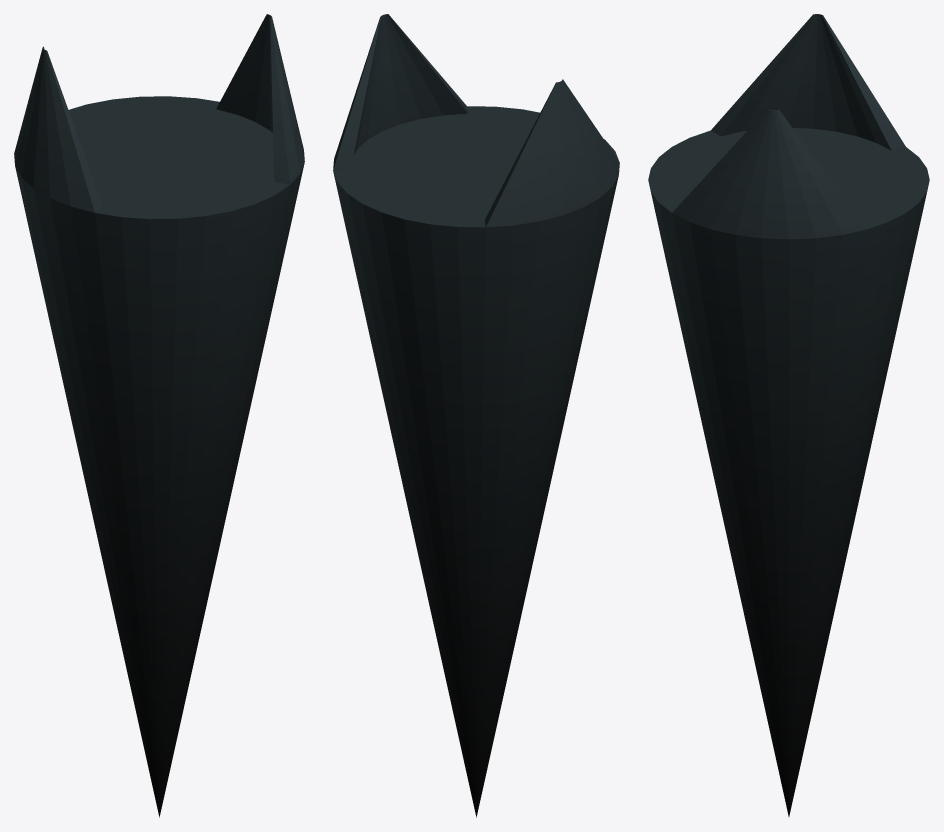
Rendered from Dark_Spire.glb.
The picture shows the model from 3 angles, left to right: view 1: azimuth 30°, elevation 25°; view 2: azimuth 150°, elevation 25°; view 3: azimuth 270°, elevation 25°; orthographic projection. The views are drawn at different scales.
Visible parts, largest first — view 1: Spire; view 2: Spire; view 3: Spire.
Part boxes in pixels (x1=…): Spire: x1=14, y1=14, x2=304, y2=817; Spire: x1=333, y1=14, x2=619, y2=817; Spire: x1=648, y1=14, x2=929, y2=816.
Size of what is drawn, in the model's own units: 2 by 5.93 by 2.
Materials: 1 (1 with a texture image).
